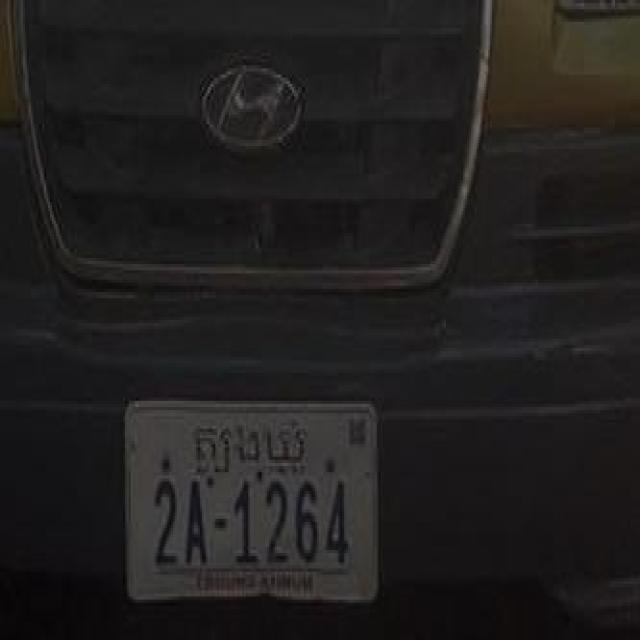Tboung_Khmum: (190, 410, 308, 480)
